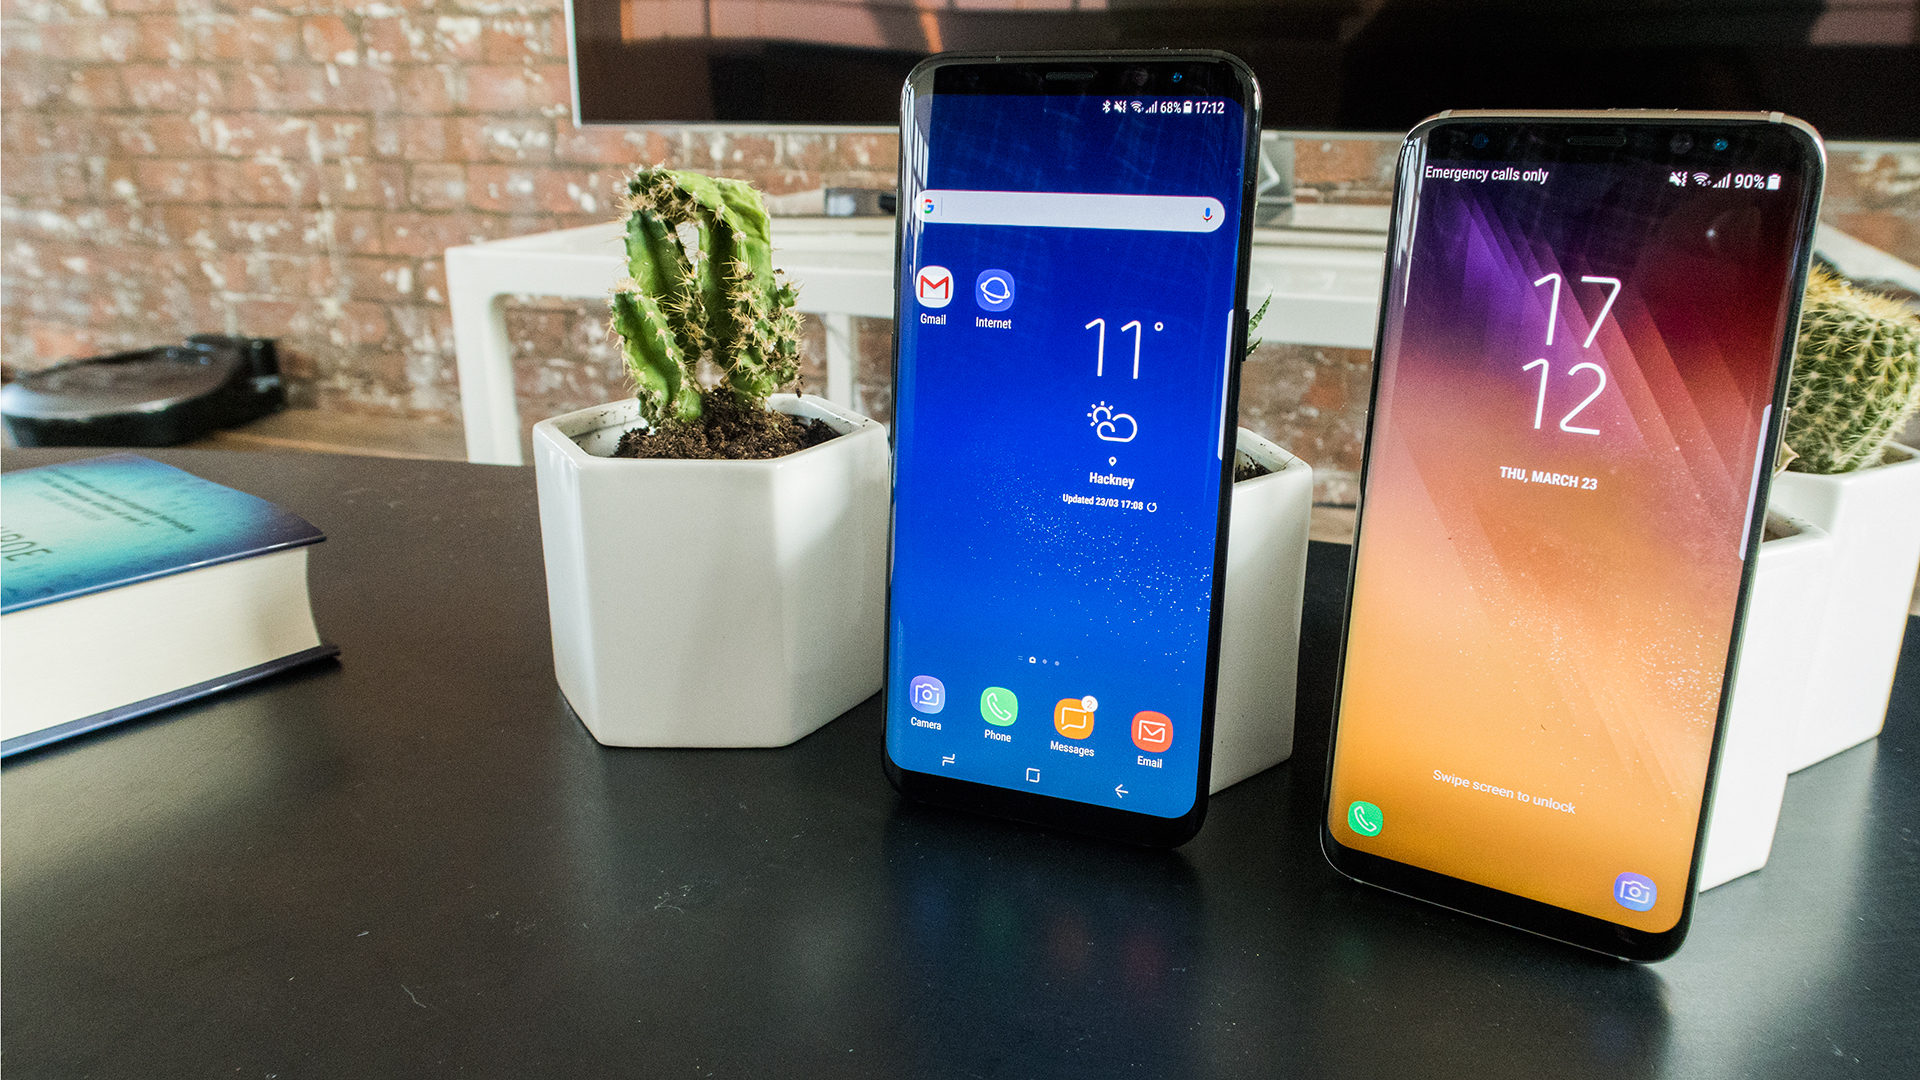smartphone: (1317, 108, 1828, 965), (878, 49, 1265, 844)
